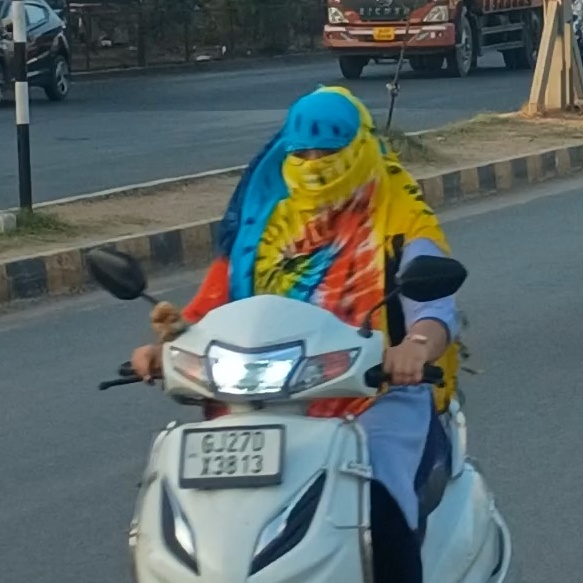BikeWithRider: (73, 67, 527, 583)
NoHelmet: (269, 72, 392, 218)
